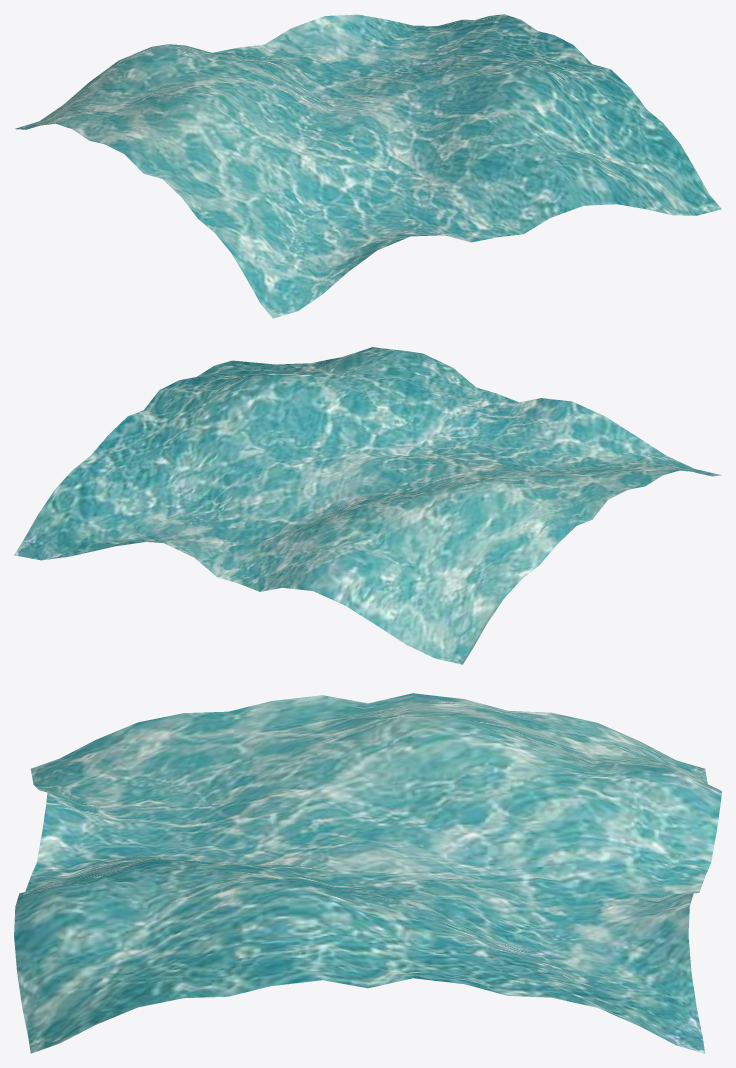
The model's file is water_000160.obj.
The picture shows the model from 3 angles, top to bottom: view 1: azimuth 30°, elevation 25°; view 2: azimuth 150°, elevation 25°; view 3: azimuth 270°, elevation 25°; orthographic projection. The views are drawn at different scales.
Visible parts, largest first — view 1: Plan.003_Plan.001; view 2: Plan.003_Plan.001; view 3: Plan.003_Plan.001.
Part boxes in pixels (<box>): Plan.003_Plan.001: <box>15,14,721,318</box>; Plan.003_Plan.001: <box>14,347,721,664</box>; Plan.003_Plan.001: <box>14,693,721,1053</box>.
Size of the model in its own units: 60763 by 10086 by 63333.
1 material, 1 textured.
